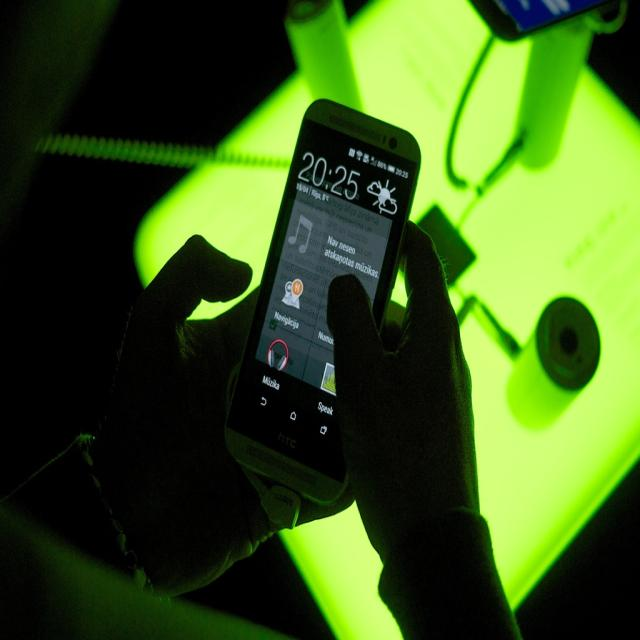Mobile-phone: (218, 98, 424, 507), (466, 0, 613, 40)
